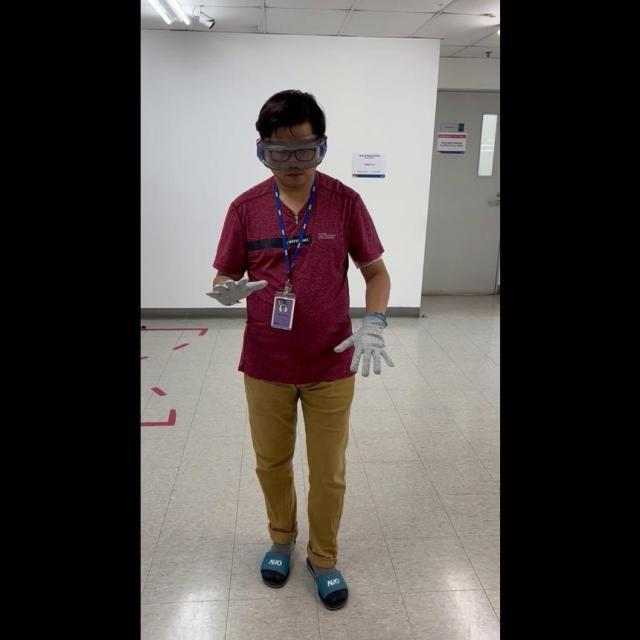gloved_hand: (332, 309, 393, 377), (205, 266, 265, 308)
